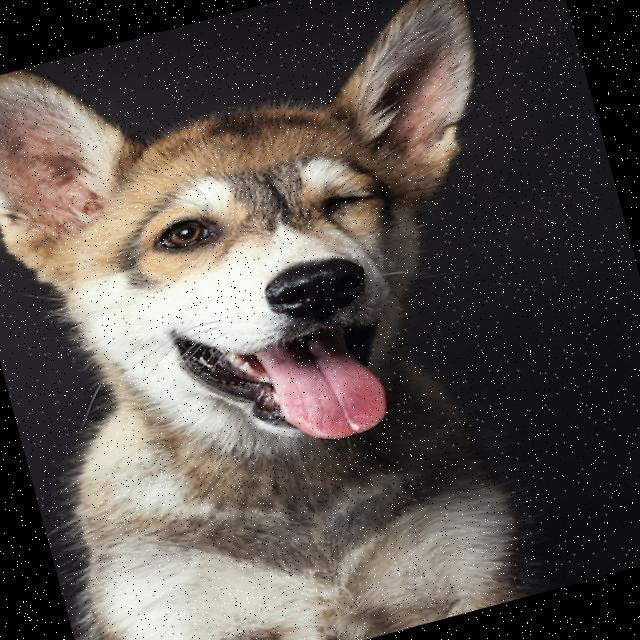Dog: (0, 0, 616, 640)
